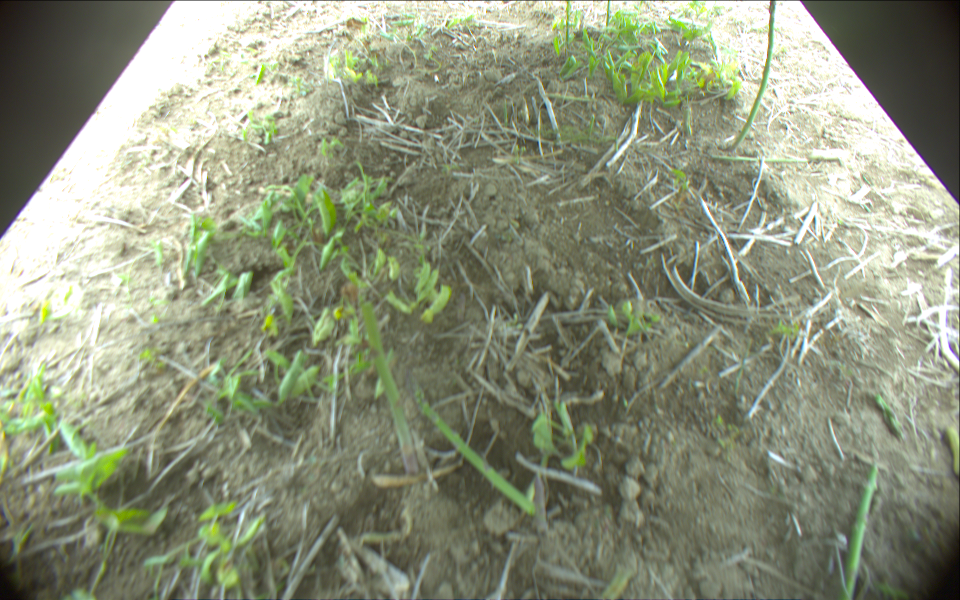aspa: (413, 395, 534, 518), (360, 303, 420, 472), (729, 1, 776, 149), (836, 459, 881, 600), (708, 154, 837, 166), (565, 1, 571, 56), (605, 1, 612, 37)
